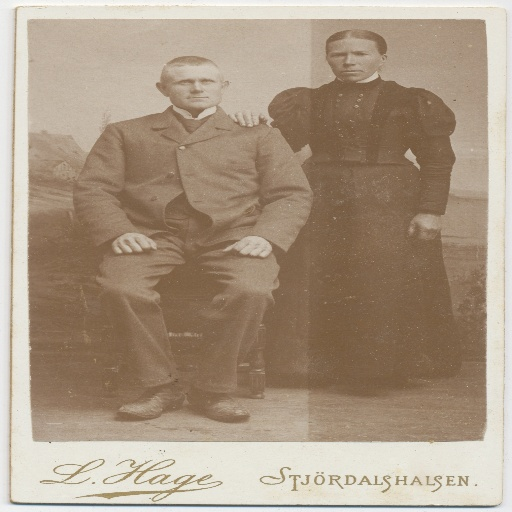hand: (101, 230, 159, 258), (402, 212, 442, 246), (220, 236, 273, 259), (226, 108, 269, 128)
